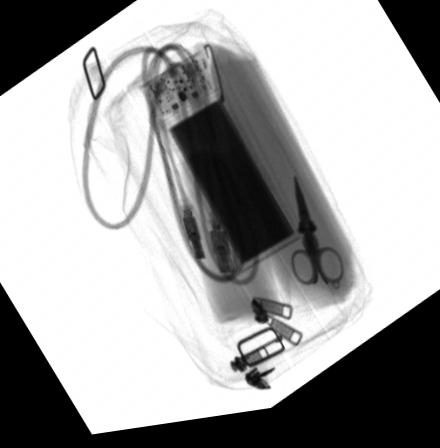Powerbank: (134, 51, 305, 281)
Scissors: (291, 180, 346, 294)
